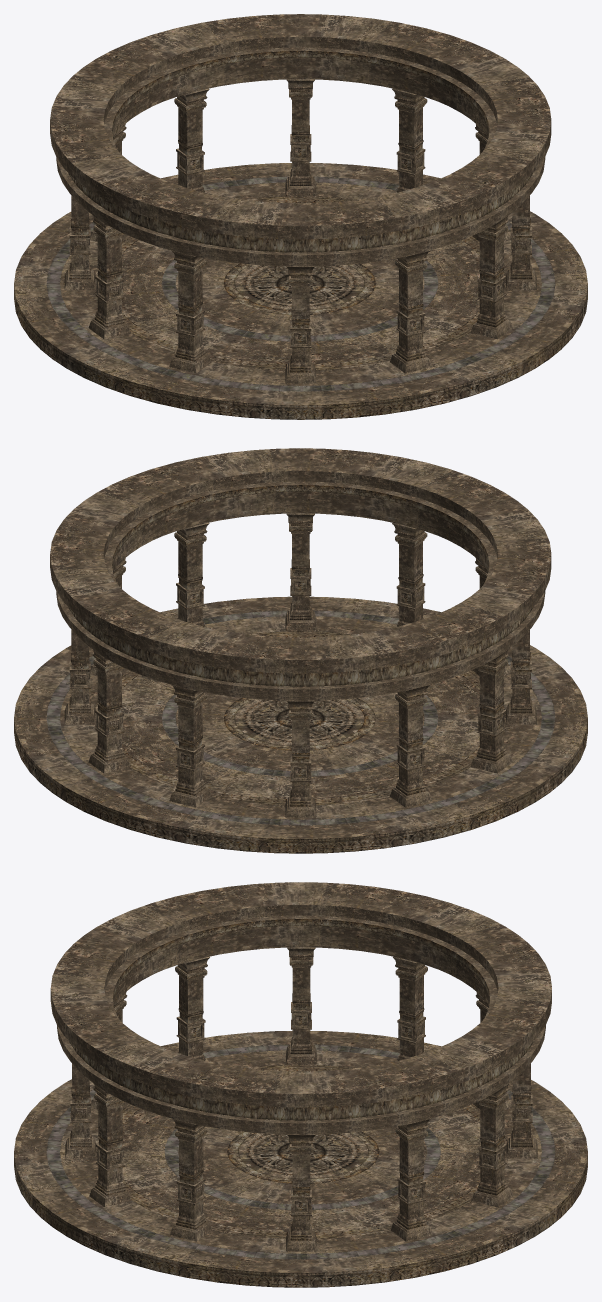
The model's file is materials_5_building_26.fbx.
3 renders of one model, top to bottom at view 1: azimuth 30°, elevation 25°; view 2: azimuth 150°, elevation 25°; view 3: azimuth 270°, elevation 25°, orthographic.
Parts seen in each view (by area): view 1: materials_5_building_26; view 2: materials_5_building_26; view 3: materials_5_building_26.
Boxes of the visible parts, x1,y1,x2,y2 form: materials_5_building_26: (14,14,587,419); materials_5_building_26: (14,448,587,853); materials_5_building_26: (14,882,587,1287).
Bounding box in the file's own units: 1203 × 413 × 1203.
